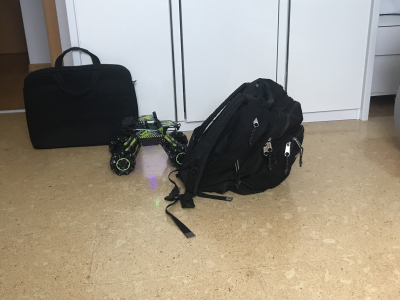remote control car: (107, 109, 191, 175)
